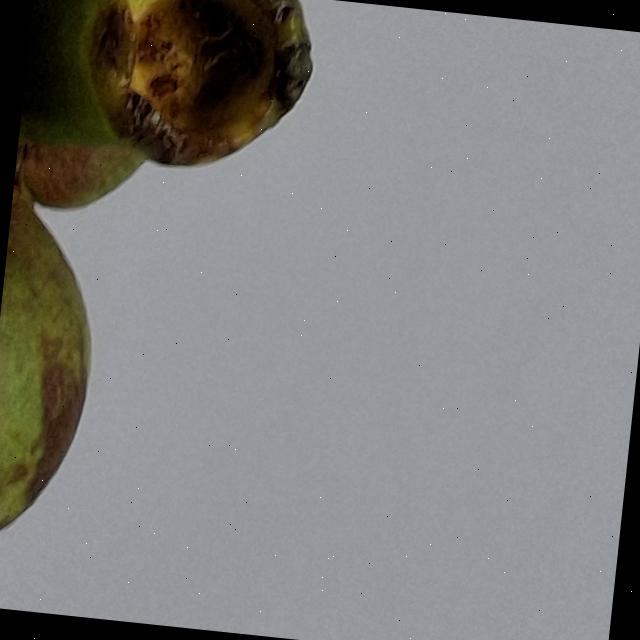mangosteen: (0, 0, 343, 637)
